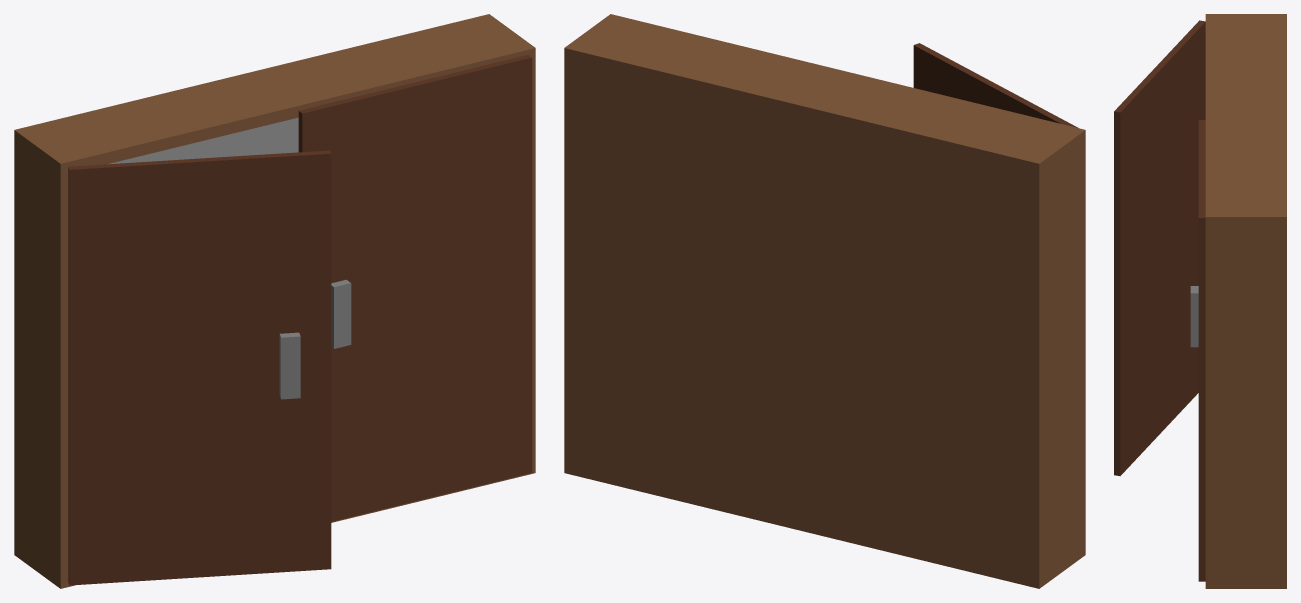
File: Cigarette Shelf #1 Open.fbx
3 views of the same model, side by side, from view 1: azimuth 30°, elevation 25°; view 2: azimuth 150°, elevation 25°; view 3: azimuth 270°, elevation 25° (orthographic). The views are drawn at different scales.
Parts seen in each view (by area): view 1: Cigarette Shelf #1 Open; view 2: Cigarette Shelf #1 Open; view 3: Cigarette Shelf #1 Open.
Boxes of the visible parts, x1,y1,x2,y2 form: Cigarette Shelf #1 Open: [14, 14, 535, 588]; Cigarette Shelf #1 Open: [564, 14, 1085, 588]; Cigarette Shelf #1 Open: [1114, 14, 1286, 588].
Size of the model in its own units: 142 by 121 by 51.
1 material, 1 textured.
